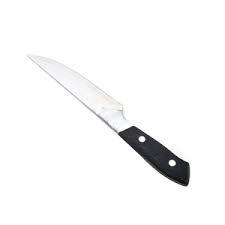Knife: (26, 52, 190, 186)
